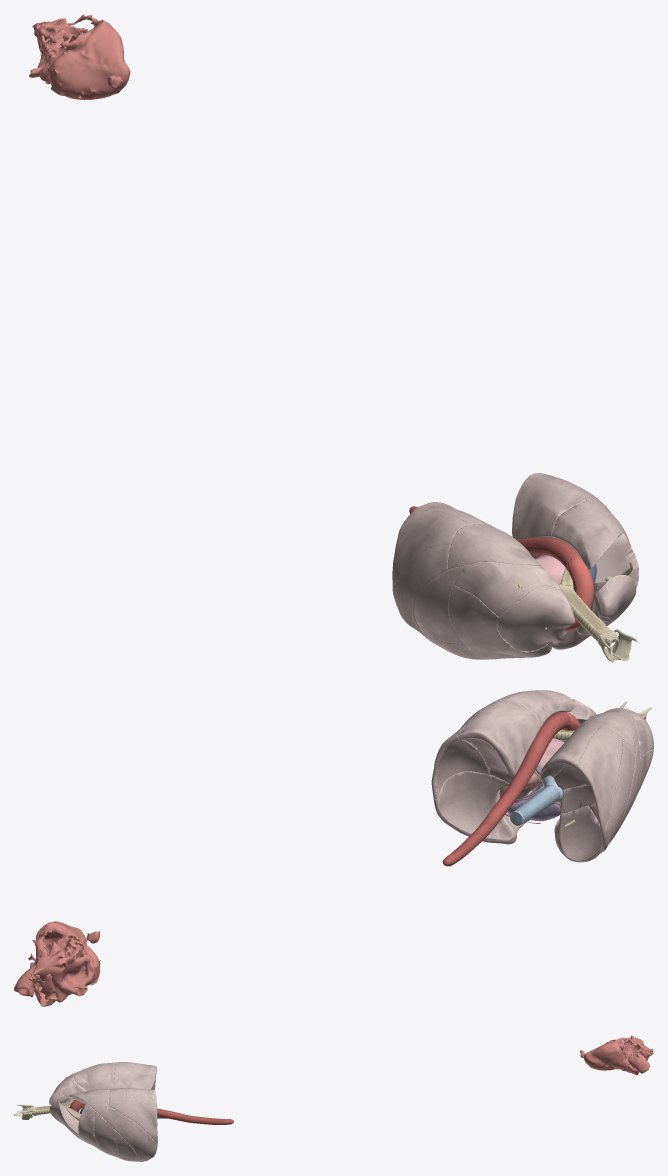
Rendered from corazon-segmentado.glb.
3 views of the same model, one above another, from view 1: azimuth 30°, elevation 25°; view 2: azimuth 150°, elevation 25°; view 3: azimuth 270°, elevation 25° (orthographic). The views are drawn at different scales.
Visible parts, largest first — view 1: pulmones, corazon, aorta, traquea; view 2: pulmones, corazon, aorta, venas_cavas, ventriculo_derecho; view 3: pulmones, corazon, aorta, laringe.
Boxes of the visible parts, x1=… form: pulmones: x1=392, y1=473, x2=638, y2=659; corazon: x1=29, y1=14, x2=130, y2=100; aorta: x1=409, y1=506, x2=594, y2=631; traquea: x1=559, y1=584, x2=610, y2=641; pulmones: x1=431, y1=690, x2=653, y2=862; corazon: x1=14, y1=921, x2=100, y2=1006; aorta: x1=443, y1=712, x2=580, y2=866; venas_cavas: x1=510, y1=785, x2=559, y2=825; ventriculo_derecho: x1=507, y1=783, x2=560, y2=821; pulmones: x1=49, y1=1062, x2=157, y2=1161; corazon: x1=580, y1=1035, x2=653, y2=1075; aorta: x1=69, y1=1100, x2=233, y2=1124; laringe: x1=14, y1=1104, x2=36, y2=1119.
Size of the model in its own units: 255 by 313 by 1430.
